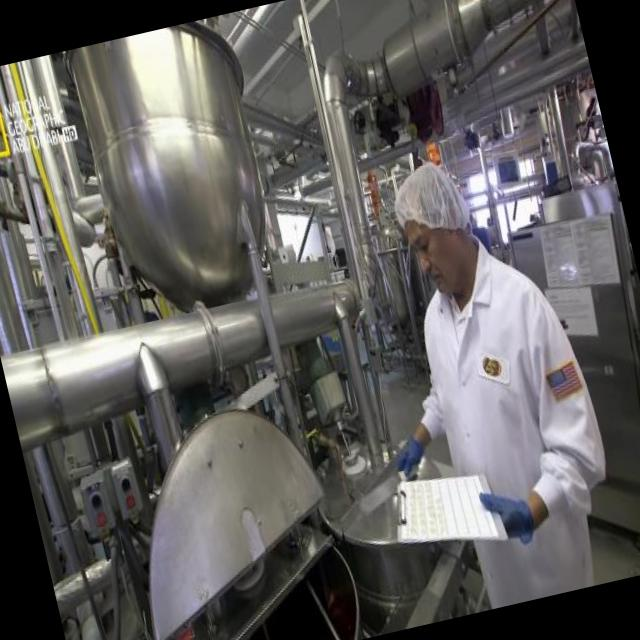hairnet: (386, 158, 472, 243)
